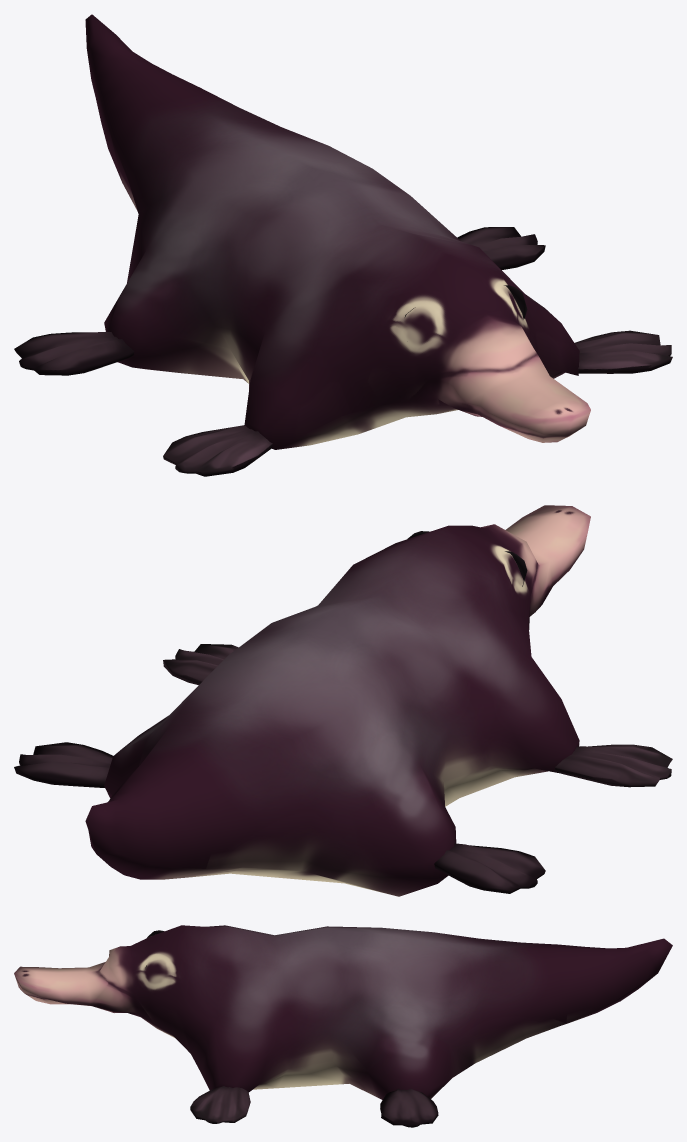
The model's file is platypus.fbx.
3 renders of one model, top to bottom at view 1: azimuth 30°, elevation 25°; view 2: azimuth 150°, elevation 25°; view 3: azimuth 270°, elevation 25°, orthographic. The views are drawn at different scales.
Parts seen in each view (by area): view 1: polySurface3; view 2: polySurface3; view 3: polySurface3.
Part boxes in pixels (left/top/right/bottom): polySurface3: left=14, top=14, right=672, bottom=476; polySurface3: left=14, top=505, right=672, bottom=896; polySurface3: left=14, top=925, right=672, bottom=1127.
Bounding box in the file's own units: 87.74 × 35.83 × 144.
